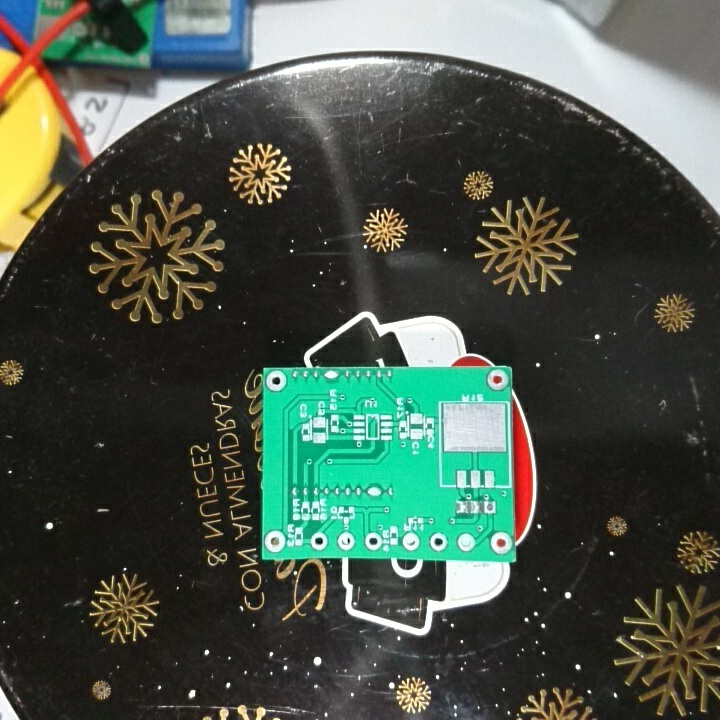F: (262, 527, 287, 555), (485, 367, 510, 392), (399, 529, 423, 555), (454, 529, 476, 557), (264, 369, 287, 395), (490, 531, 513, 557), (333, 528, 357, 552), (308, 529, 331, 553), (361, 530, 383, 554), (427, 531, 448, 555), (482, 499, 498, 517)
P: (322, 367, 341, 385), (364, 484, 384, 500)
